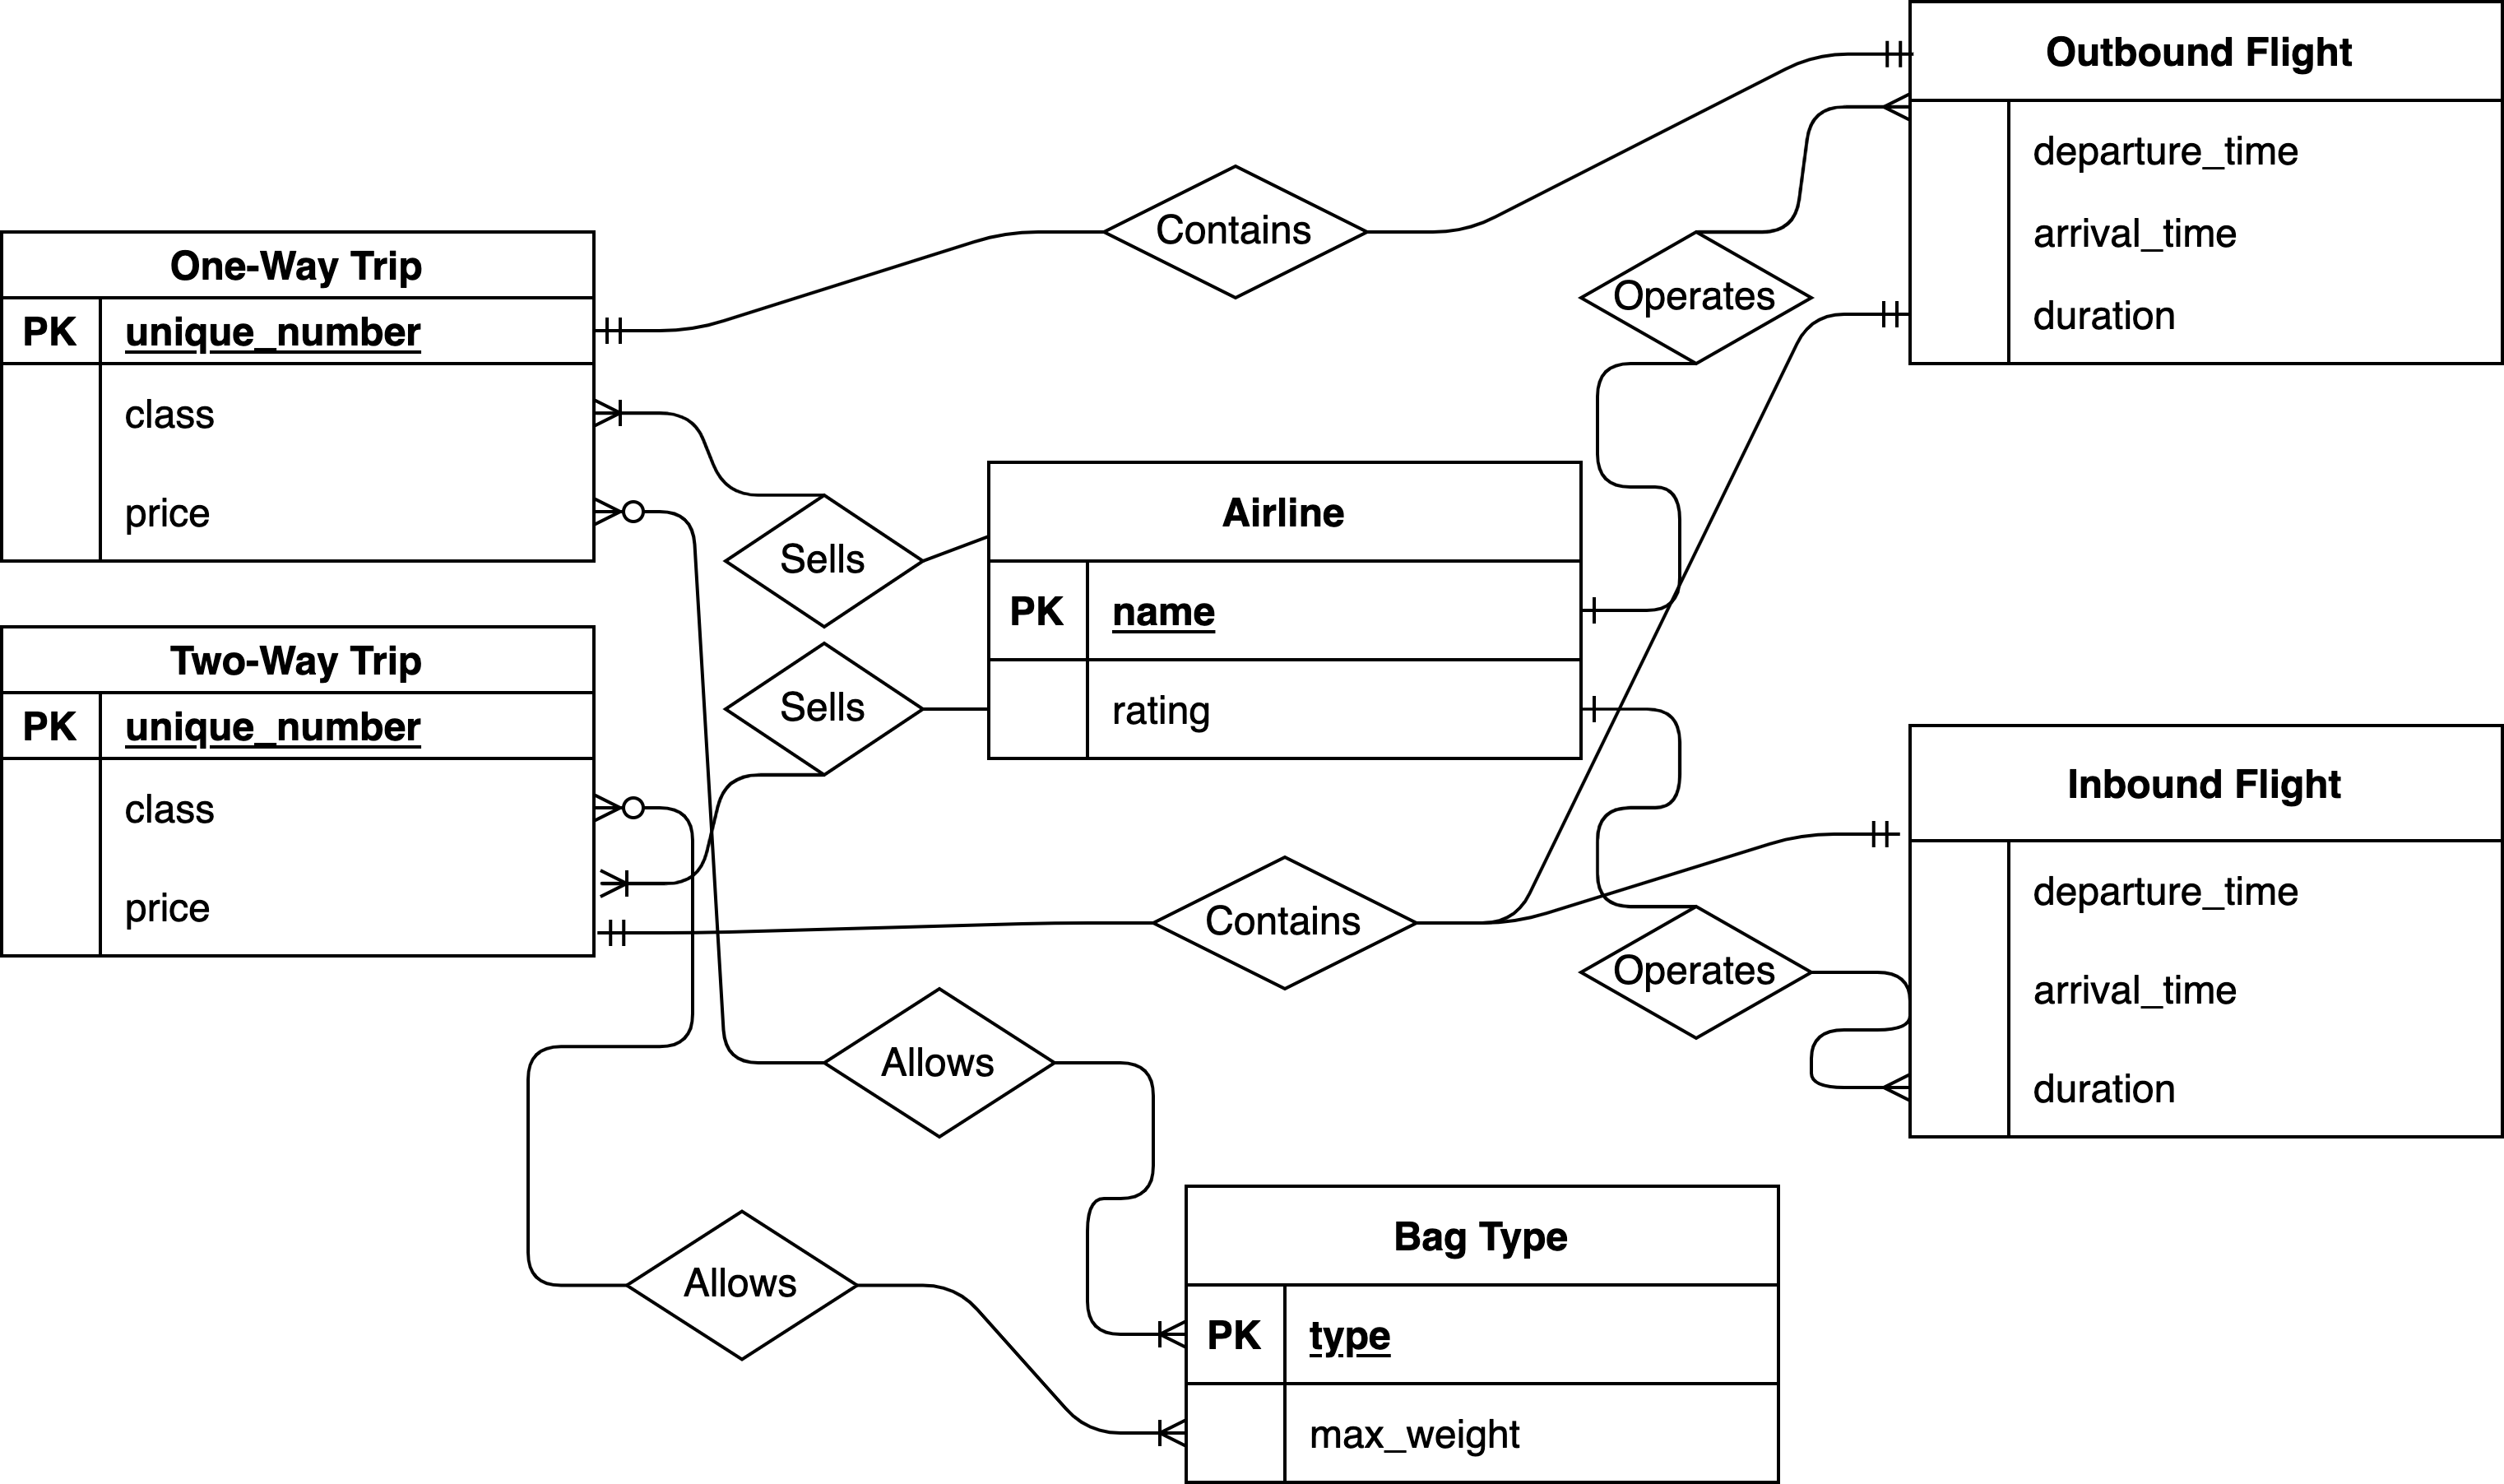entity: (1909, 726, 2504, 1136), (1904, 2, 2504, 360), (0, 228, 597, 562), (0, 629, 592, 958), (1183, 1187, 1784, 1484), (987, 466, 1579, 758)
many: (1086, 1316, 1190, 1360), (592, 866, 689, 908), (1814, 1074, 1911, 1108), (592, 495, 671, 532), (590, 396, 678, 428), (1093, 1419, 1188, 1447), (593, 795, 671, 829)
one: (1821, 816, 1907, 853), (1828, 39, 1914, 74), (593, 919, 683, 950), (597, 314, 676, 346), (1584, 694, 1655, 730), (1580, 595, 1662, 624), (1840, 299, 1905, 332)
rel: (1155, 859, 1416, 995), (623, 1210, 853, 1364), (1107, 168, 1370, 300), (826, 986, 1052, 1134), (1577, 228, 1815, 362), (1584, 905, 1815, 1035), (722, 495, 924, 627), (722, 643, 918, 770)
